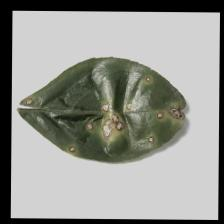canker: (24, 87, 190, 157)
